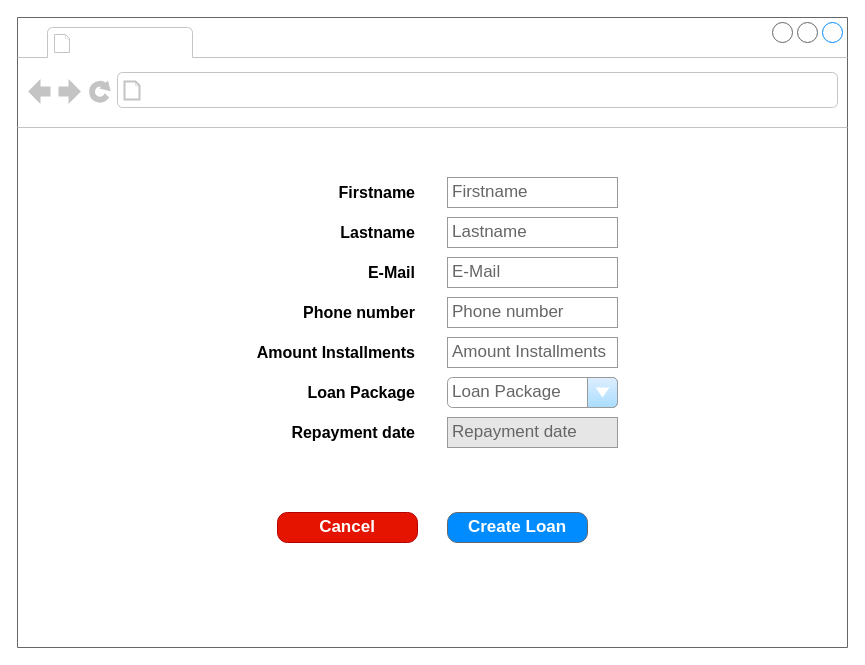
Some shapes in this 865 by 665 pixel diagram are drawn without their labels. The centre of each missing label's shape, as x and y in pixels:
"https://www.draw.io" belongs at point (272, 90).
"Page 1" belongs at point (132, 42).
